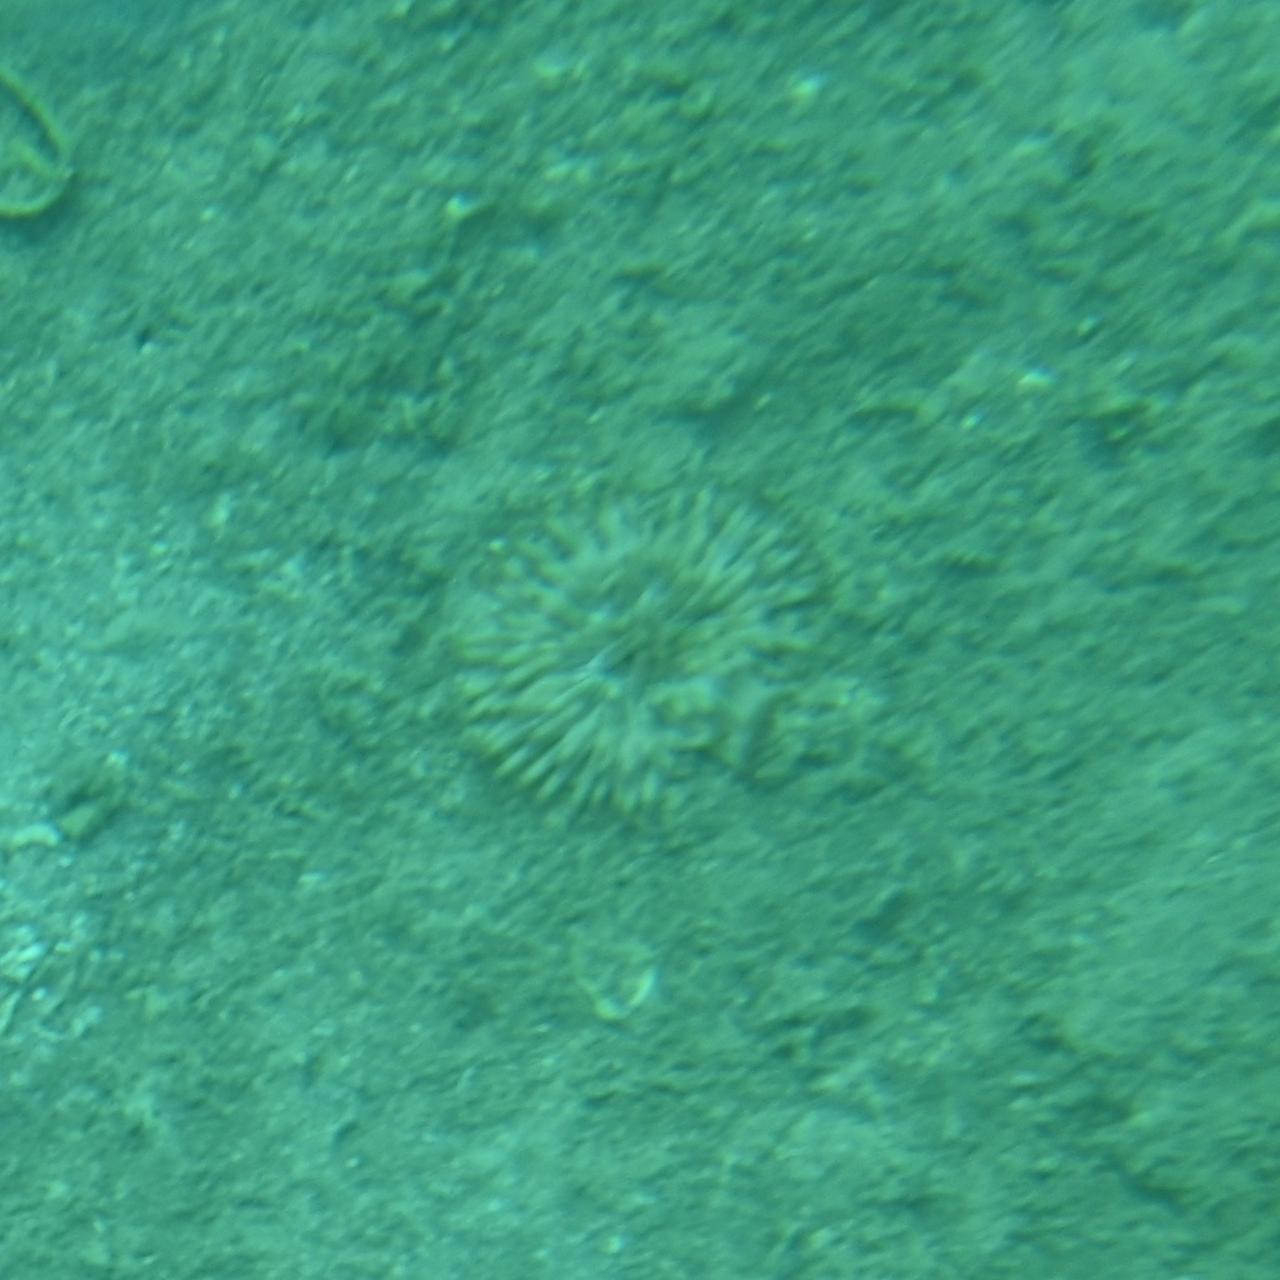Condylactis aurantiaca: (406, 461, 874, 819)
